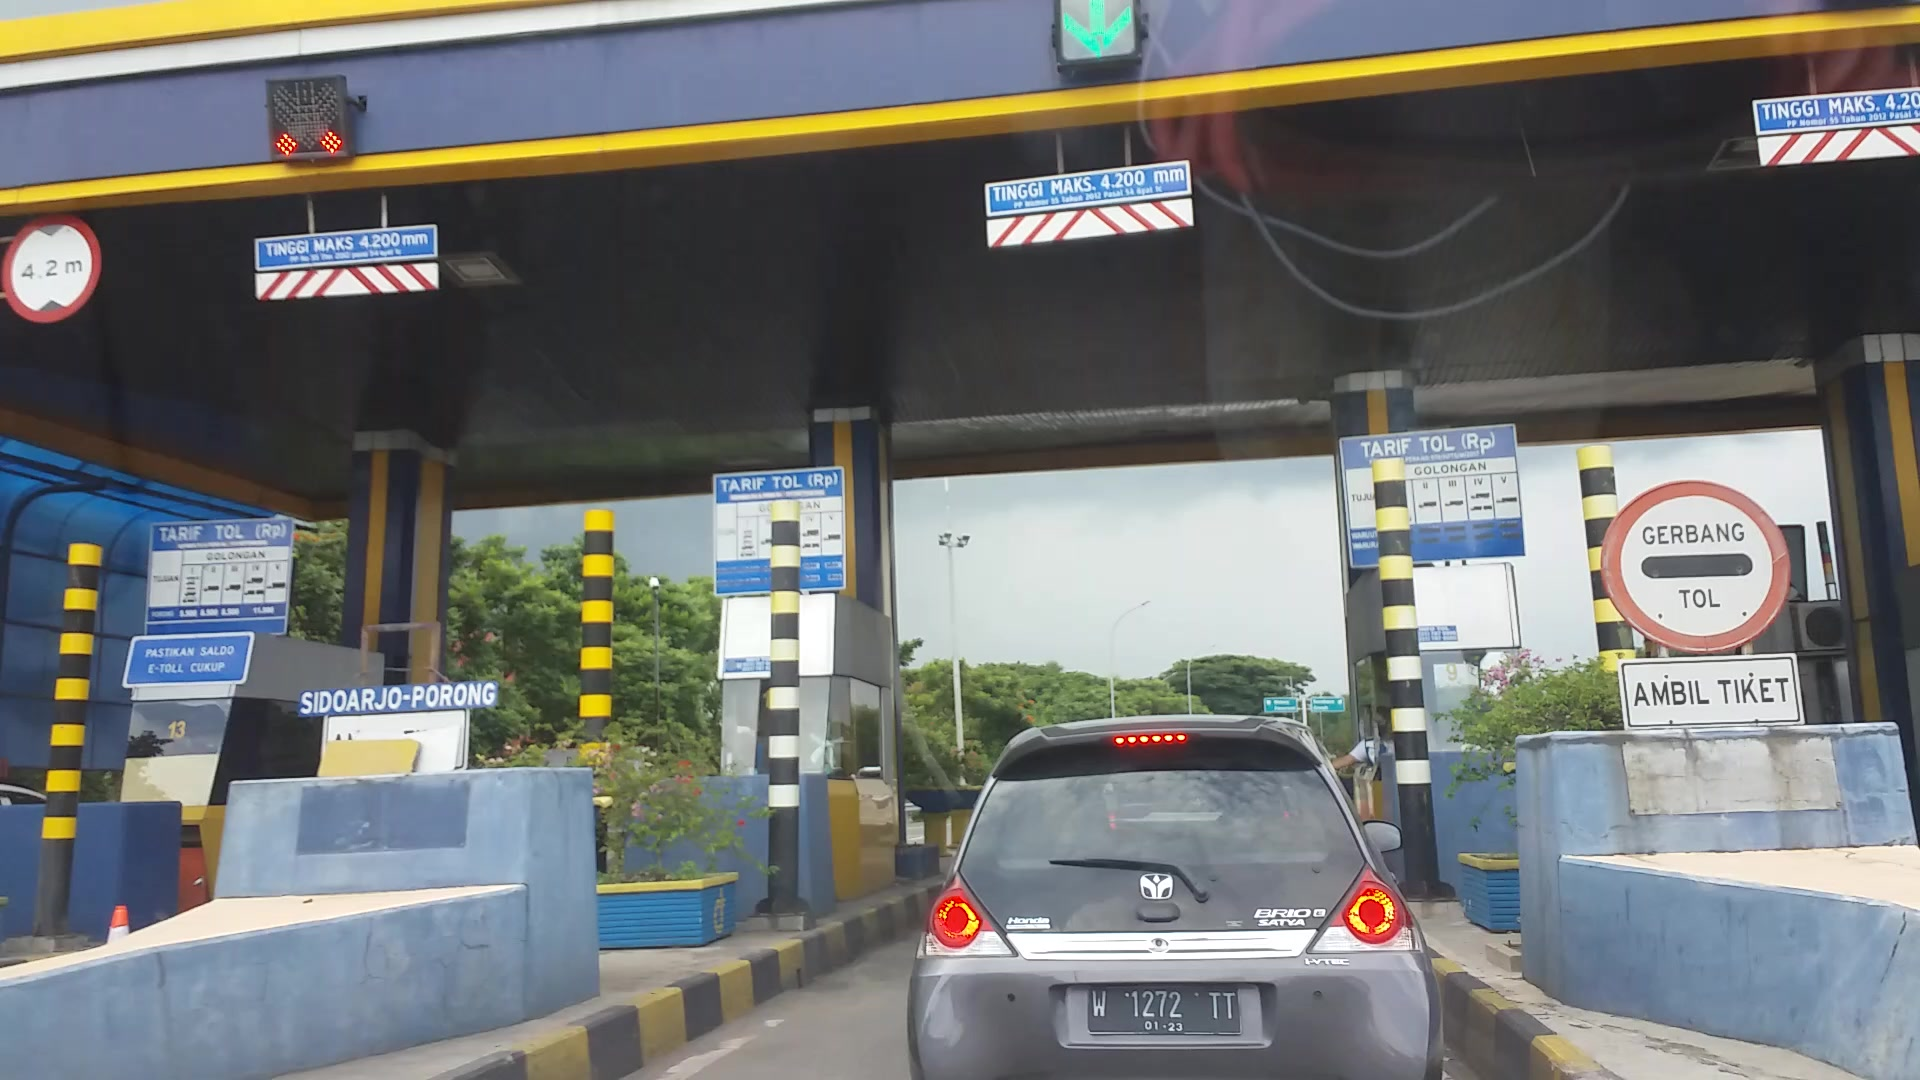plate_positive: (1087, 984, 1240, 1035)
